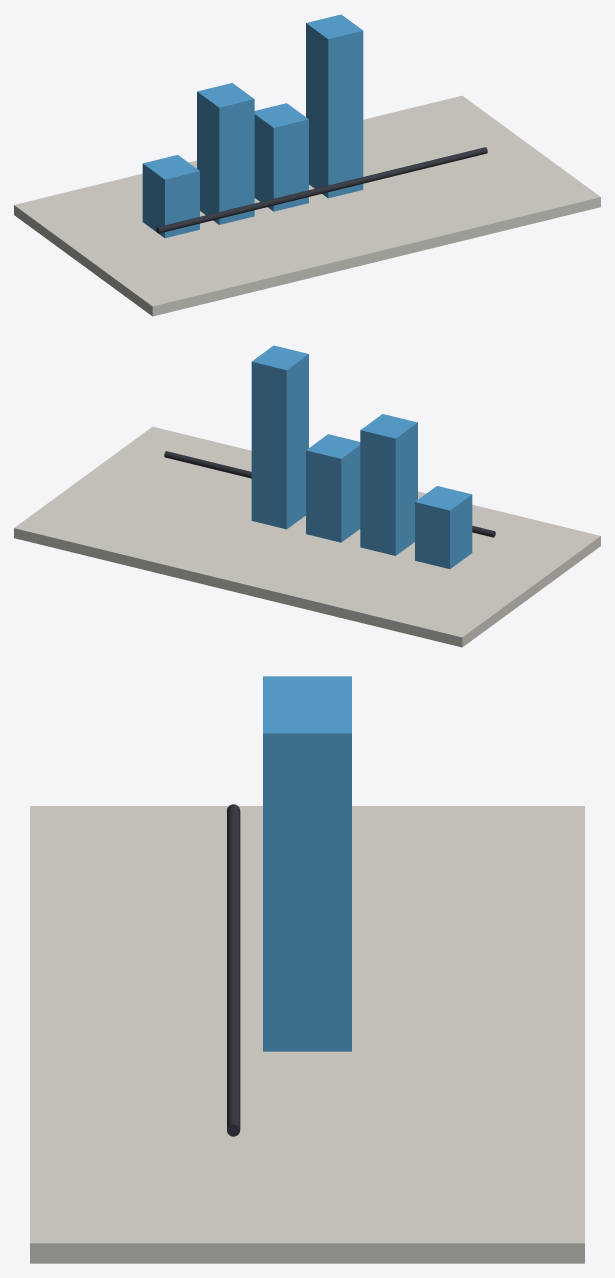
Rendered from math-data-bar-chart.glb.
3 renders of one model, top to bottom at view 1: azimuth 30°, elevation 25°; view 2: azimuth 150°, elevation 25°; view 3: azimuth 270°, elevation 25°, orthographic. The views are drawn at different scales.
Parts seen in each view (by area): view 1: manipulative-base, bar-4, bar-2, bar-3, bar-1, category-axis; view 2: manipulative-base, bar-4, bar-2, bar-3, bar-1, category-axis; view 3: manipulative-base, bar-4, category-axis, bar-2.
Boxes of the visible parts, x1=… form: manipulative-base: x1=14, y1=95, x2=600, y2=316; bar-4: x1=306, y1=14, x2=363, y2=198; bar-2: x1=197, y1=83, x2=254, y2=224; bar-3: x1=254, y1=103, x2=308, y2=211; bar-1: x1=142, y1=155, x2=199, y2=237; category-axis: x1=156, y1=147, x2=487, y2=233; manipulative-base: x1=14, y1=426, x2=600, y2=647; bar-4: x1=251, y1=345, x2=308, y2=529; bar-2: x1=360, y1=414, x2=417, y2=555; bar-3: x1=306, y1=434, x2=360, y2=542; bar-1: x1=415, y1=486, x2=472, y2=568; category-axis: x1=164, y1=451, x2=495, y2=537; manipulative-base: x1=30, y1=806, x2=584, y2=1263; bar-4: x1=263, y1=699, x2=351, y2=1051; category-axis: x1=227, y1=804, x2=240, y2=1136; bar-2: x1=263, y1=676, x2=351, y2=698.
Size of what is drawn, in the model's own units: 2.8 by 1.06 by 1.5.
